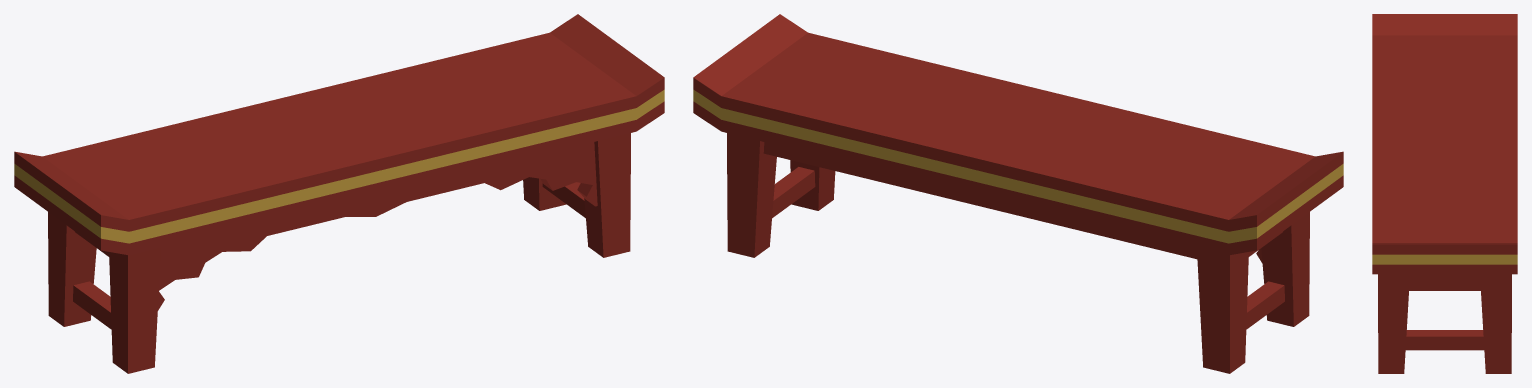
File: fn_altar.glb
3 views of the same model, side by side, from view 1: azimuth 30°, elevation 25°; view 2: azimuth 150°, elevation 25°; view 3: azimuth 270°, elevation 25° (orthographic). The views are drawn at different scales.
Parts seen in each view (by area): view 1: fn_altar__wood_red, fn_altar__gold; view 2: fn_altar__wood_red, fn_altar__gold; view 3: fn_altar__wood_red, fn_altar__gold.
Boxes of the visible parts, left/top/right/bottom form: fn_altar__wood_red: left=14, top=14, right=664, bottom=373; fn_altar__gold: left=14, top=89, right=664, bottom=243; fn_altar__wood_red: left=693, top=14, right=1343, bottom=373; fn_altar__gold: left=693, top=89, right=1343, bottom=243; fn_altar__wood_red: left=1372, top=14, right=1517, bottom=373; fn_altar__gold: left=1372, top=254, right=1517, bottom=264.
Bounding box in the file's own units: 30 × 8.6 × 8.
